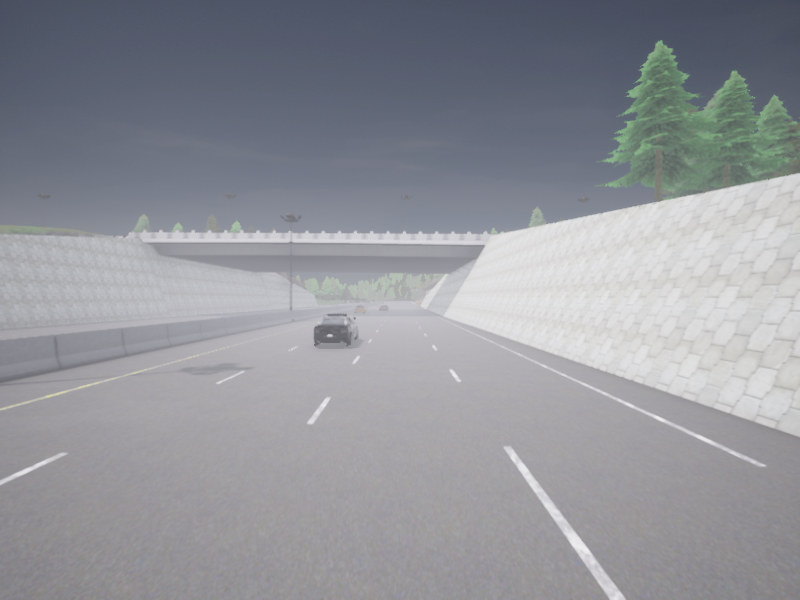vehicle: (314, 313, 357, 345), (355, 305, 366, 313), (380, 305, 388, 310)
